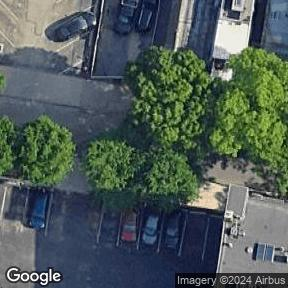vegetation: (0, 115, 75, 186), (0, 73, 5, 89)
